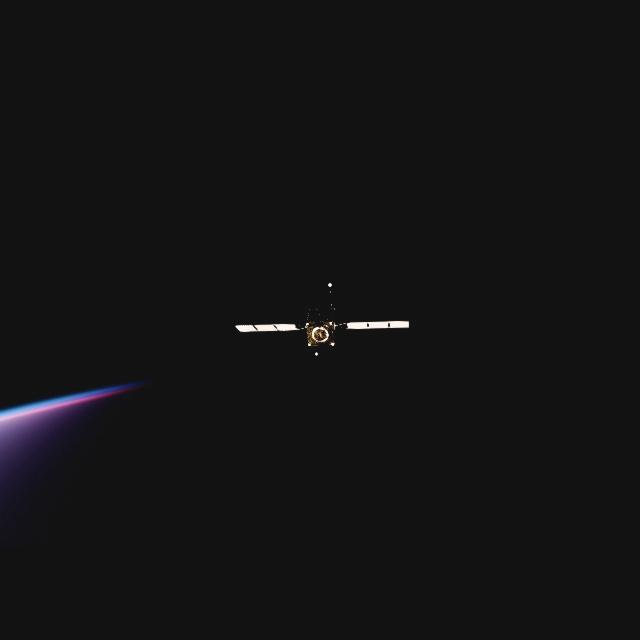satellite: (238, 282, 410, 358)
